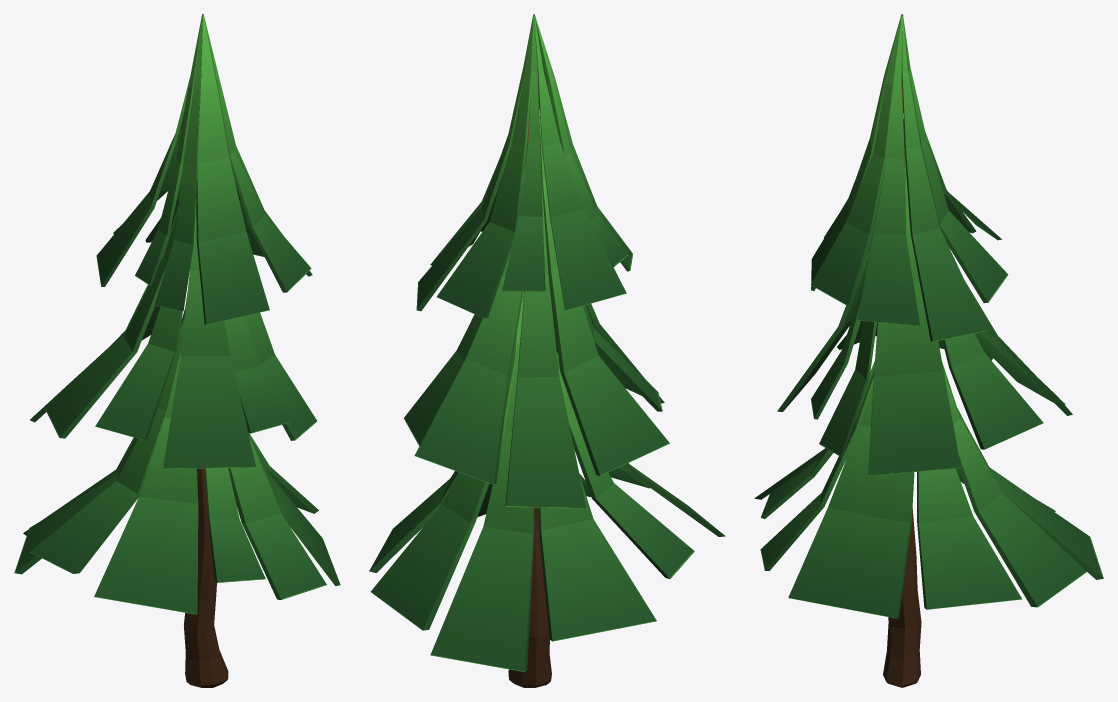
Rendered from Tree2.fbx.
3 renders of one model, left to right at view 1: azimuth 30°, elevation 25°; view 2: azimuth 150°, elevation 25°; view 3: azimuth 270°, elevation 25°, orthographic.
Visible parts, largest first — view 1: SmallTree_LOD0; view 2: SmallTree_LOD0; view 3: SmallTree_LOD0.
Boxes of the visible parts, <box> form: SmallTree_LOD0: <box>14,14,340,687</box>; SmallTree_LOD0: <box>369,14,725,687</box>; SmallTree_LOD0: <box>754,14,1103,687</box>.
Size of what is drawn, in the model's own units: 166 by 373 by 178.
Materials: 2 (2 with a texture image).
